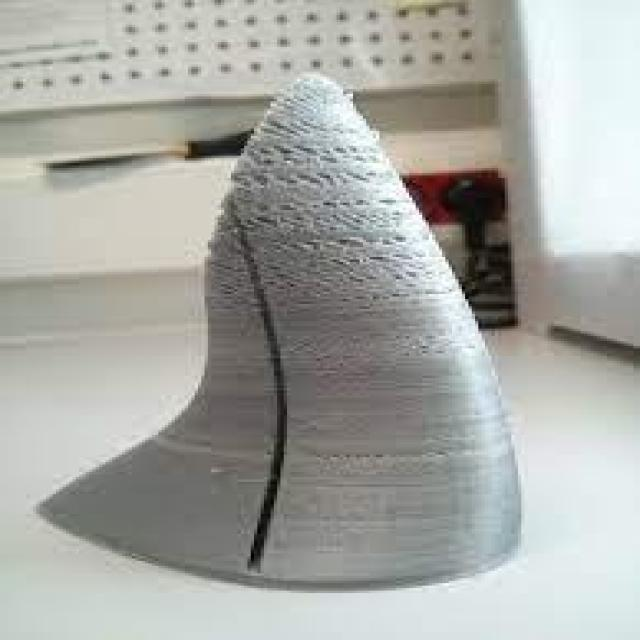spaghetti: (184, 50, 470, 337), (204, 154, 329, 577)
